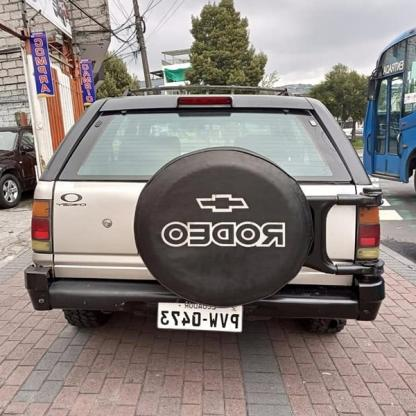Placa: (154, 297, 247, 336)
